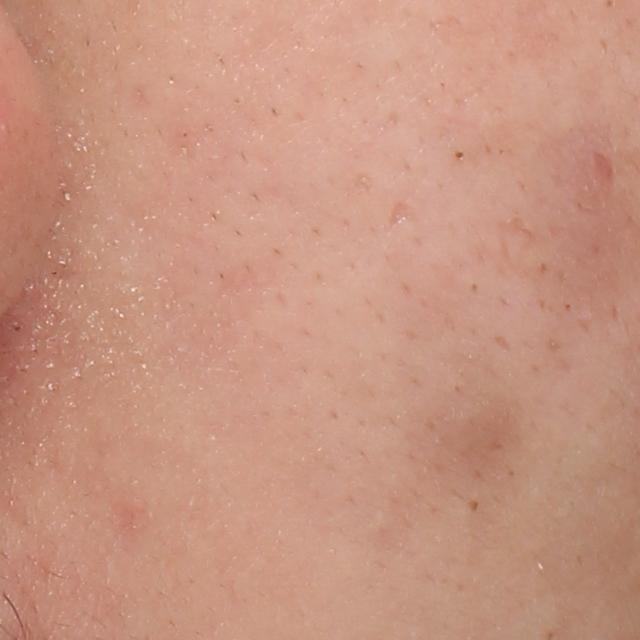atrophic_scar: (388, 200, 422, 232)
comedo: (461, 495, 487, 522)
